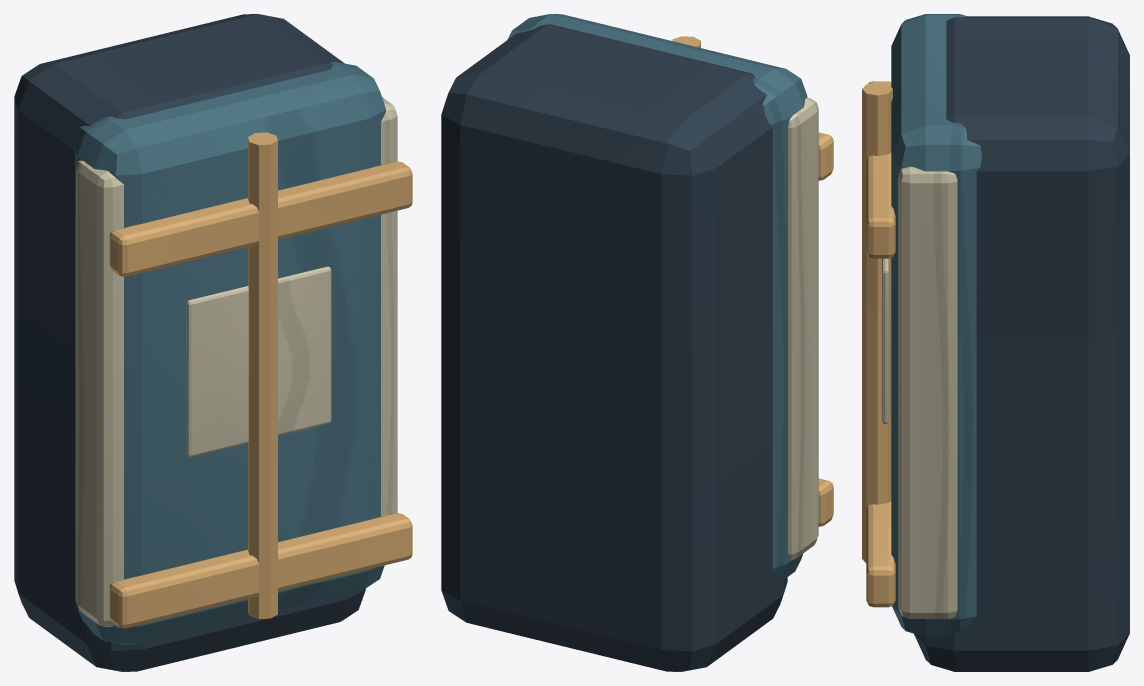
File: wardplate.glb
3 views of the same model, side by side, from view 1: azimuth 30°, elevation 25°; view 2: azimuth 150°, elevation 25°; view 3: azimuth 270°, elevation 25° (orthographic).
Parts seen in each view (by area): view 1: wardplate_solid; view 2: wardplate_solid; view 3: wardplate_solid.
Part boxes in pixels (left/top/right/bottom): wardplate_solid: left=14, top=14, right=412, bottom=671; wardplate_solid: left=441, top=14, right=833, bottom=671; wardplate_solid: left=862, top=14, right=1129, bottom=671.
Bounding box in the file's own units: 1 × 1.78 × 0.78.
4 materials, 2 textured.
